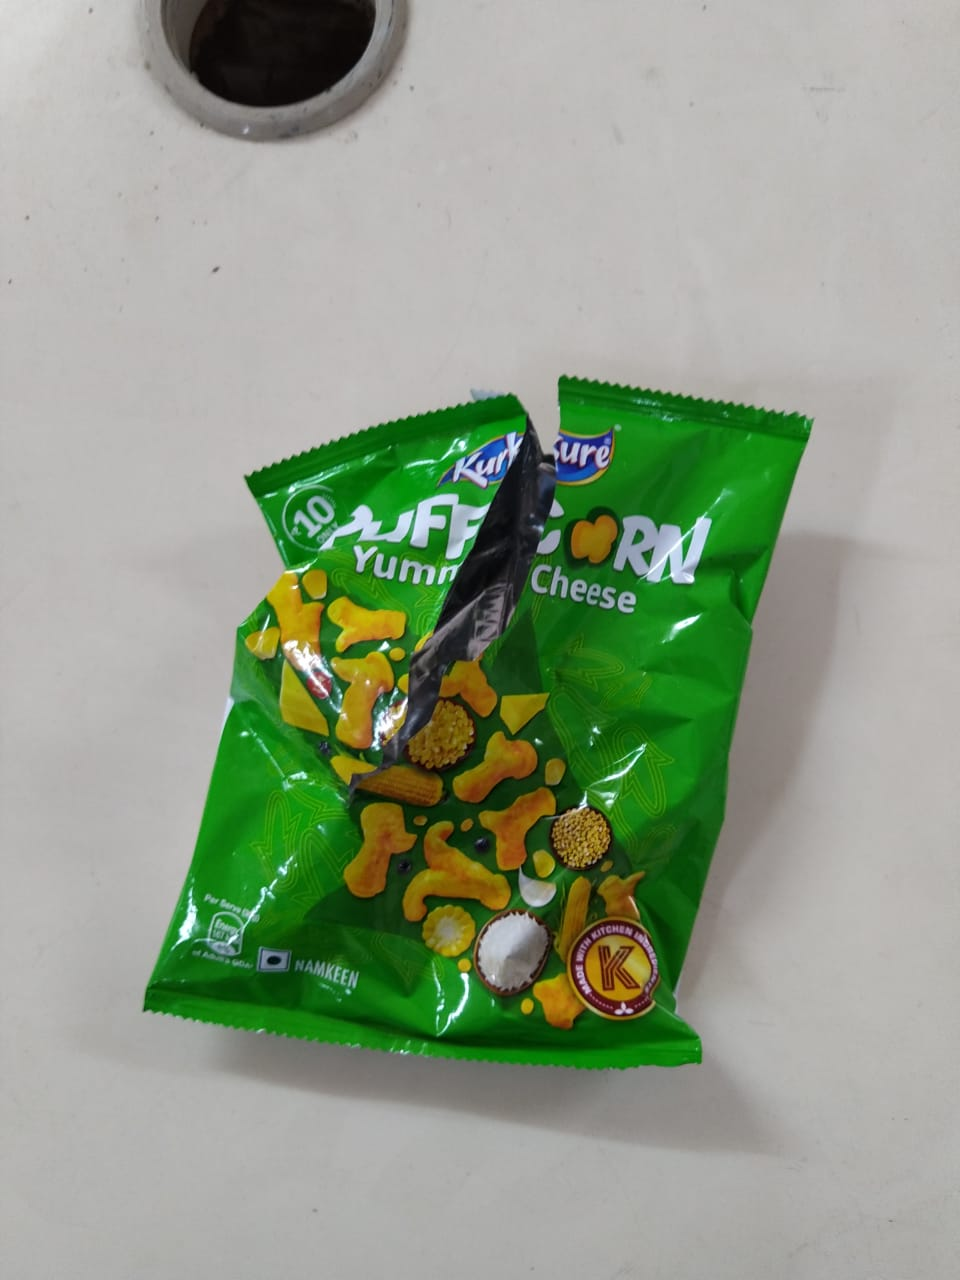kurkure: (443, 418, 623, 495), (531, 416, 627, 507), (453, 424, 547, 509)
plastic: (137, 369, 808, 1051)
wrapper: (217, 371, 743, 1070)
